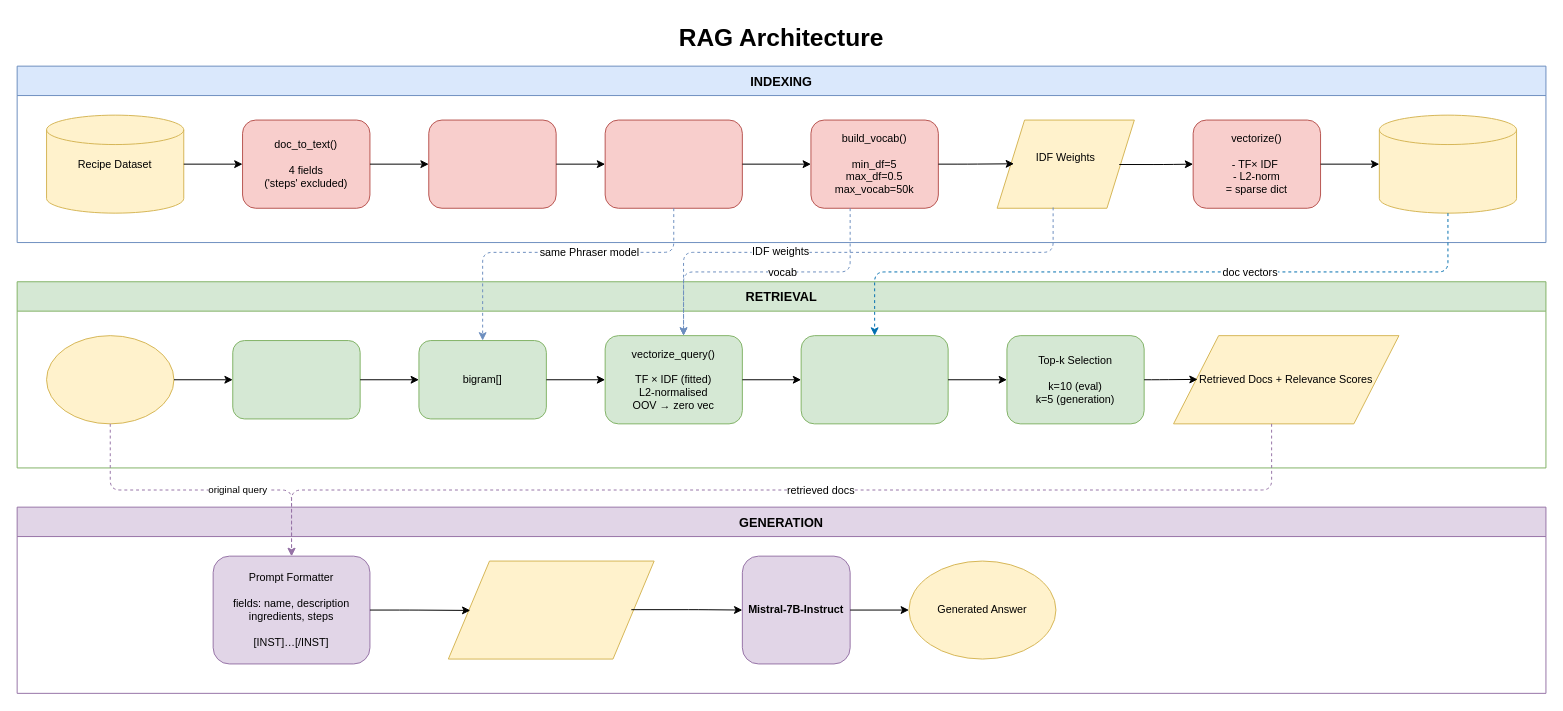
This 1563x711 diagram has some shape labels left out. Each missing label, with the centre of its shape:
Bigram Model ('olive + oil → olive_oil'): (673,163)
Document Vectors N × |V| sparse TF-IDF matrix: (1447,163)
dot_sparse() cosine similarity scores: (874,379)
preprocess() - stopword removal - lemmatization: (492,163)
preprocess() same pipeline as indexing: (296,379)
Prompt (instructions + query + k recipes): (550,609)
User Query: (110,379)
